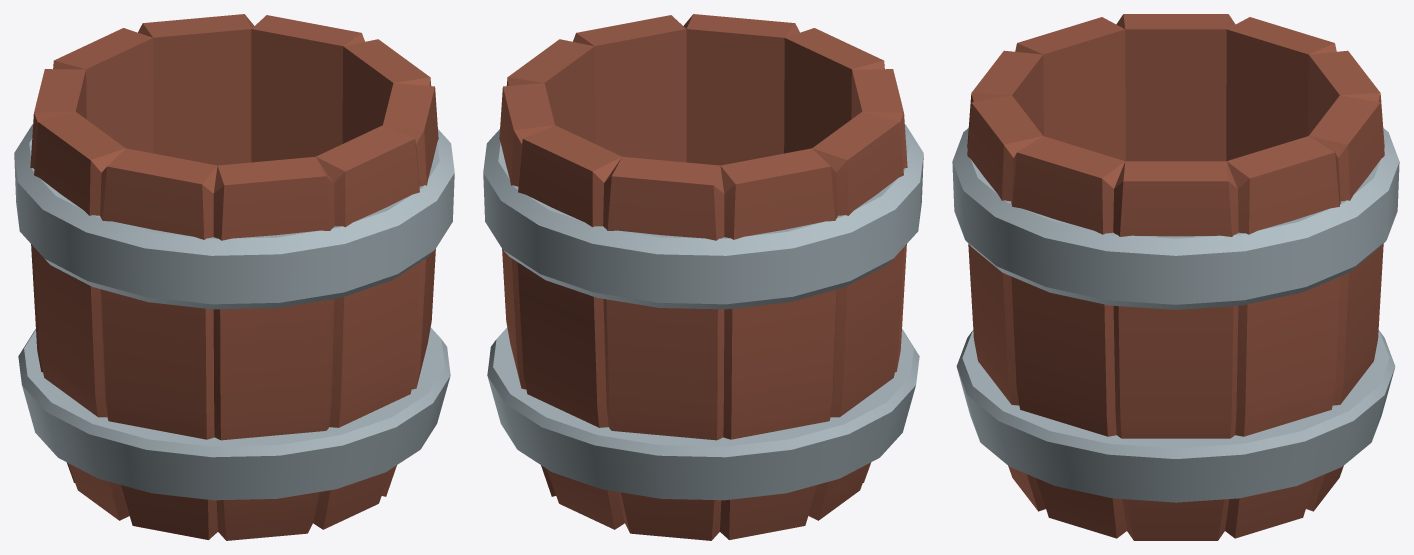
The model's file is bucket_empty.gltf.glb.
3 views of the same model, side by side, from view 1: azimuth 30°, elevation 25°; view 2: azimuth 150°, elevation 25°; view 3: azimuth 270°, elevation 25° (orthographic).
Visible parts, largest first — view 1: bucket_empty; view 2: bucket_empty; view 3: bucket_empty.
Part boxes in pixels (box(x1,y1,x2,y2)): bucket_empty: box(14, 14, 454, 540); bucket_empty: box(483, 14, 923, 540); bucket_empty: box(952, 14, 1399, 540).
Bounding box in the file's own units: 0.7083 × 0.662 × 0.7083.
